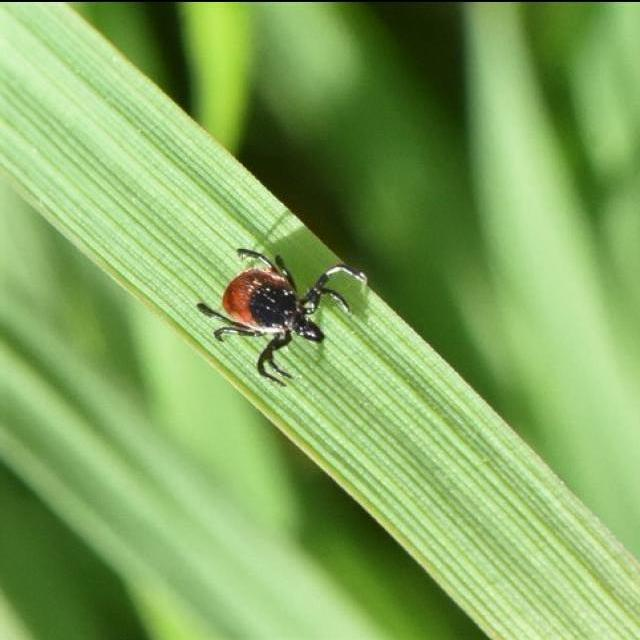Ixodes Ricinus-F: (195, 246, 366, 385)
